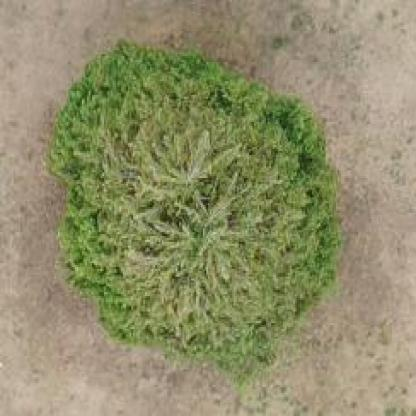Coniferous Tree: (27, 38, 346, 376)
